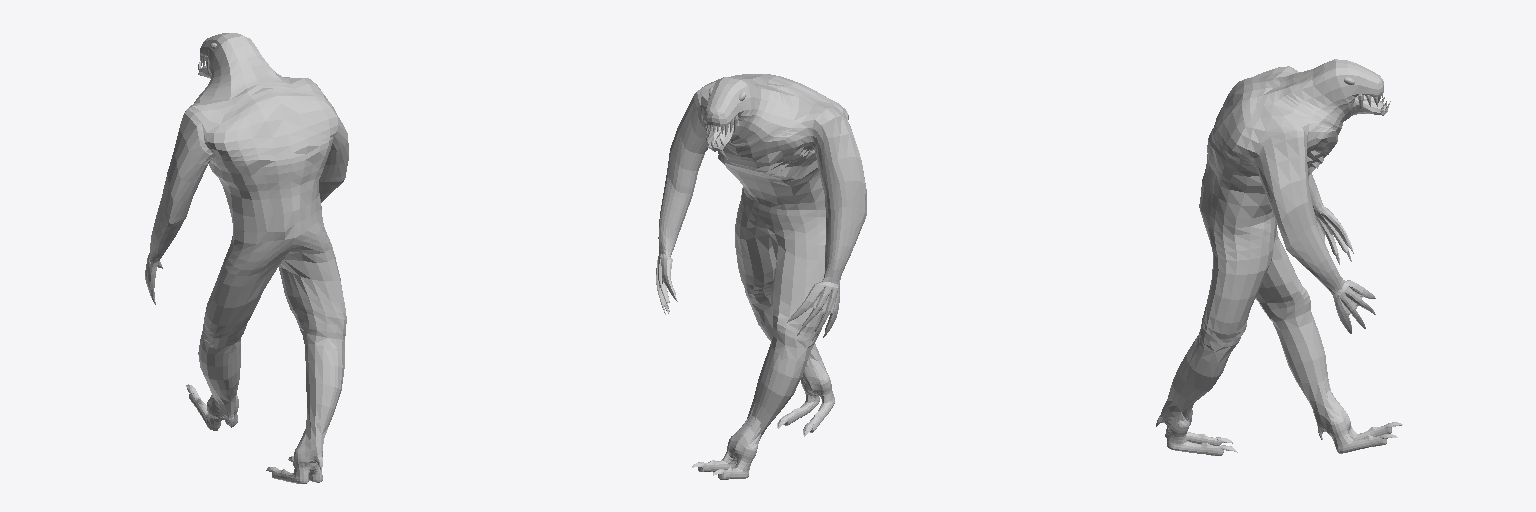
The model's file is Berserkerandar.0044.obj.
The picture shows the model from 3 angles: view 1: azimuth 30°, elevation 25°; view 2: azimuth 150°, elevation 25°; view 3: azimuth 270°, elevation 25°; orthographic projection.
Visible parts, largest first — view 1: polySurface27; view 2: polySurface27; view 3: polySurface27.
Boxes of the visible parts, box(x1,y1,x2,y2) form: polySurface27: box(145, 33, 348, 483); polySurface27: box(656, 74, 866, 479); polySurface27: box(1156, 59, 1402, 455).
Bounding box in the file's own units: 11.46 × 22.97 × 13.18.